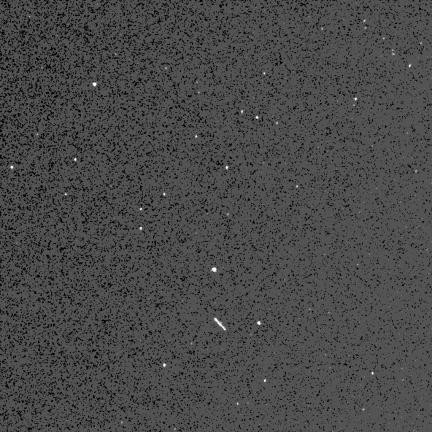blob: (212, 268, 217, 273), (93, 82, 98, 87), (257, 322, 261, 326), (256, 116, 260, 120), (226, 166, 229, 171), (409, 64, 412, 68), (241, 110, 244, 114), (164, 364, 167, 368), (140, 227, 143, 231), (264, 379, 267, 383), (140, 208, 143, 211), (276, 122, 279, 125), (65, 193, 68, 196), (372, 372, 375, 375), (195, 135, 198, 138), (263, 73, 266, 76), (355, 98, 358, 101), (75, 158, 77, 162), (11, 166, 13, 169), (297, 185, 299, 188), (164, 193, 166, 196), (237, 403, 239, 405)
